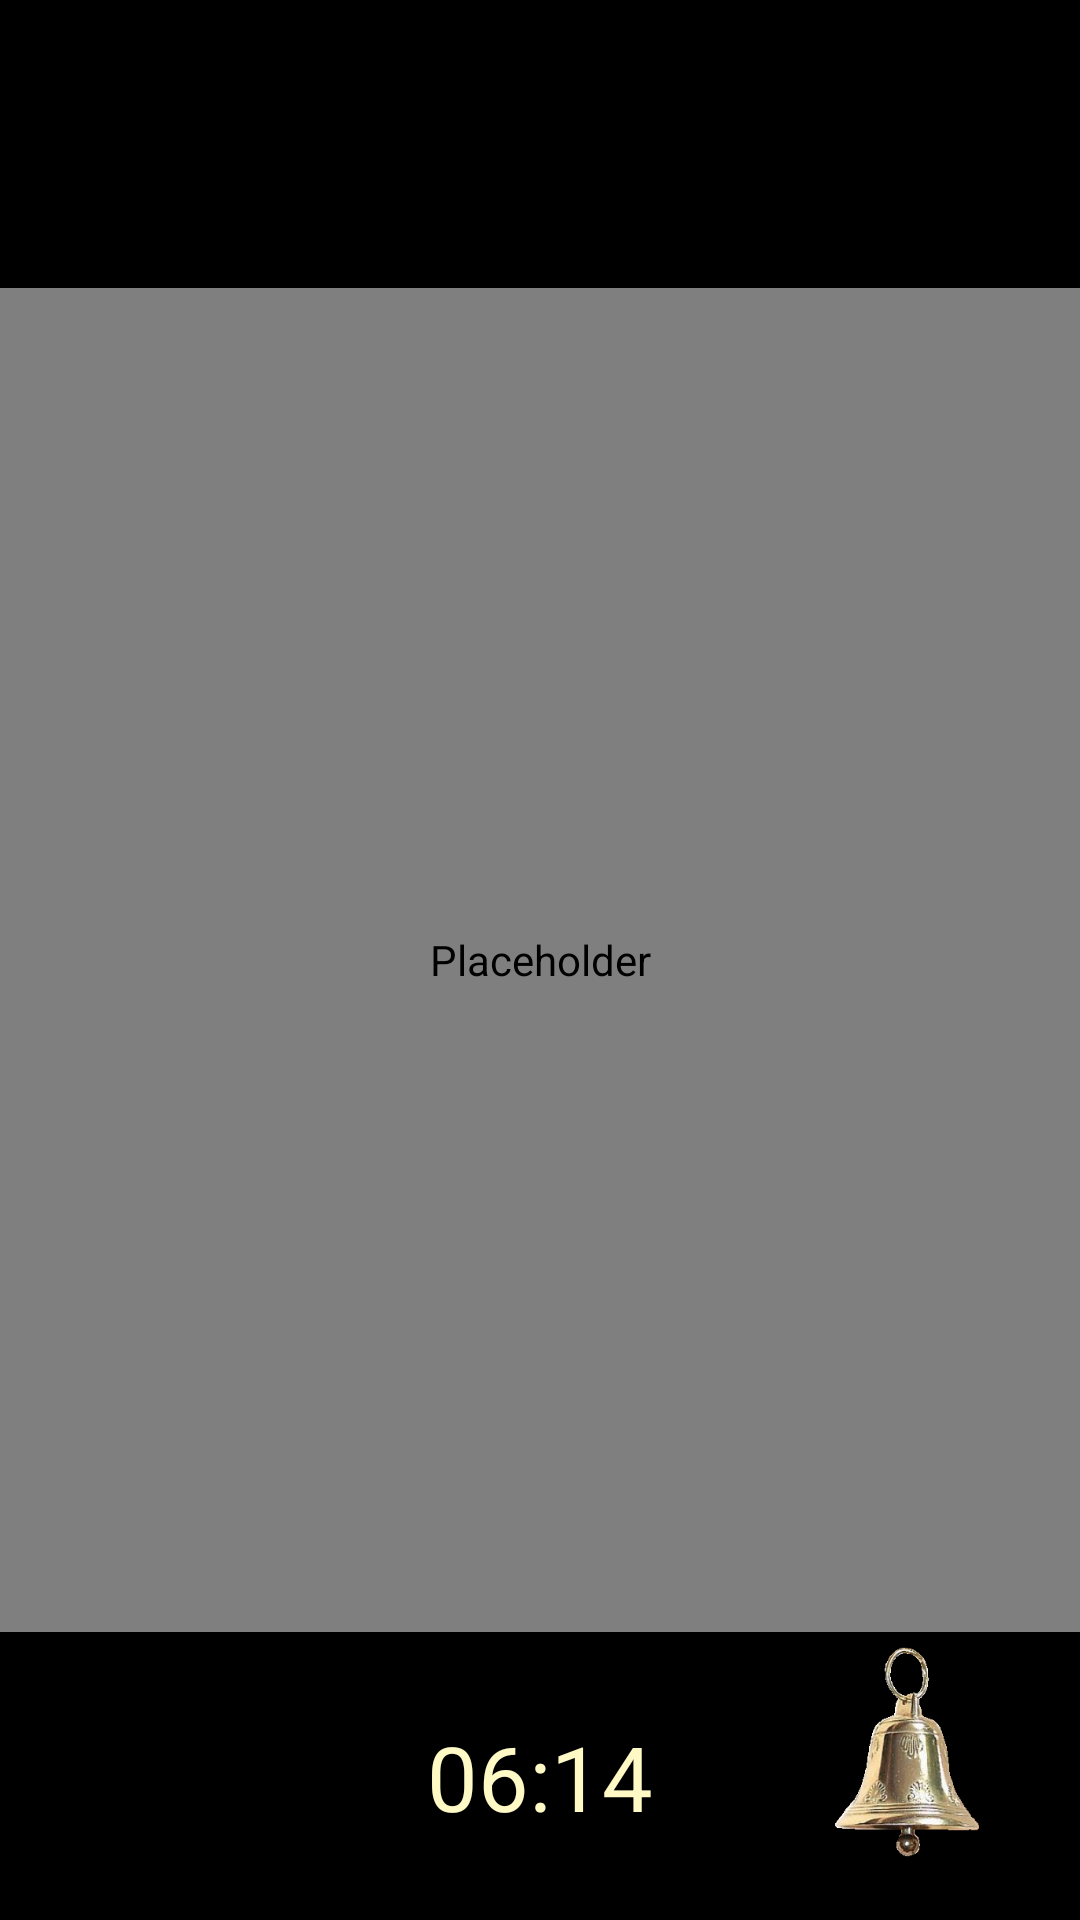

Screen size 1080 x 1920. Icon name, then its center in pixels as (x=x, y=y):
Stop alarm: (x=907, y=1751)
